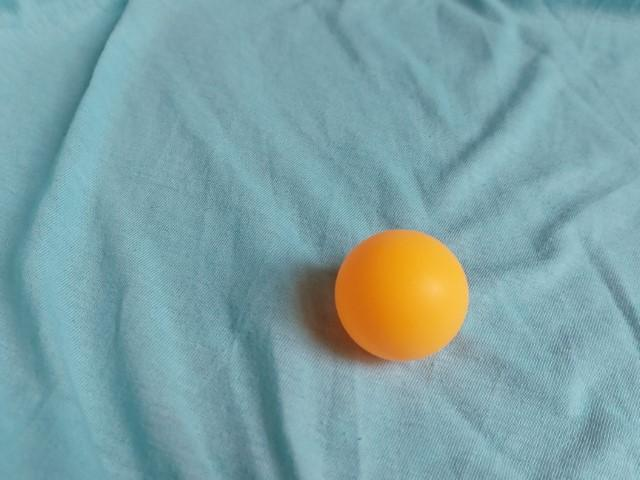oball: (325, 221, 475, 369)
